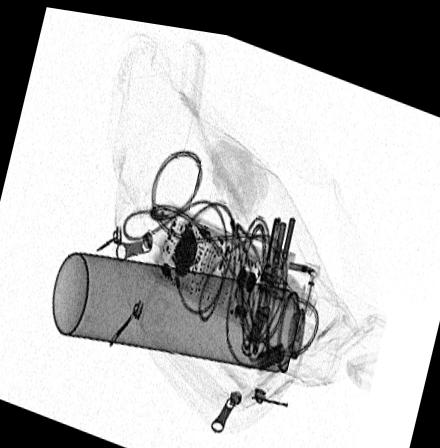Sprayer: (50, 248, 339, 368)
